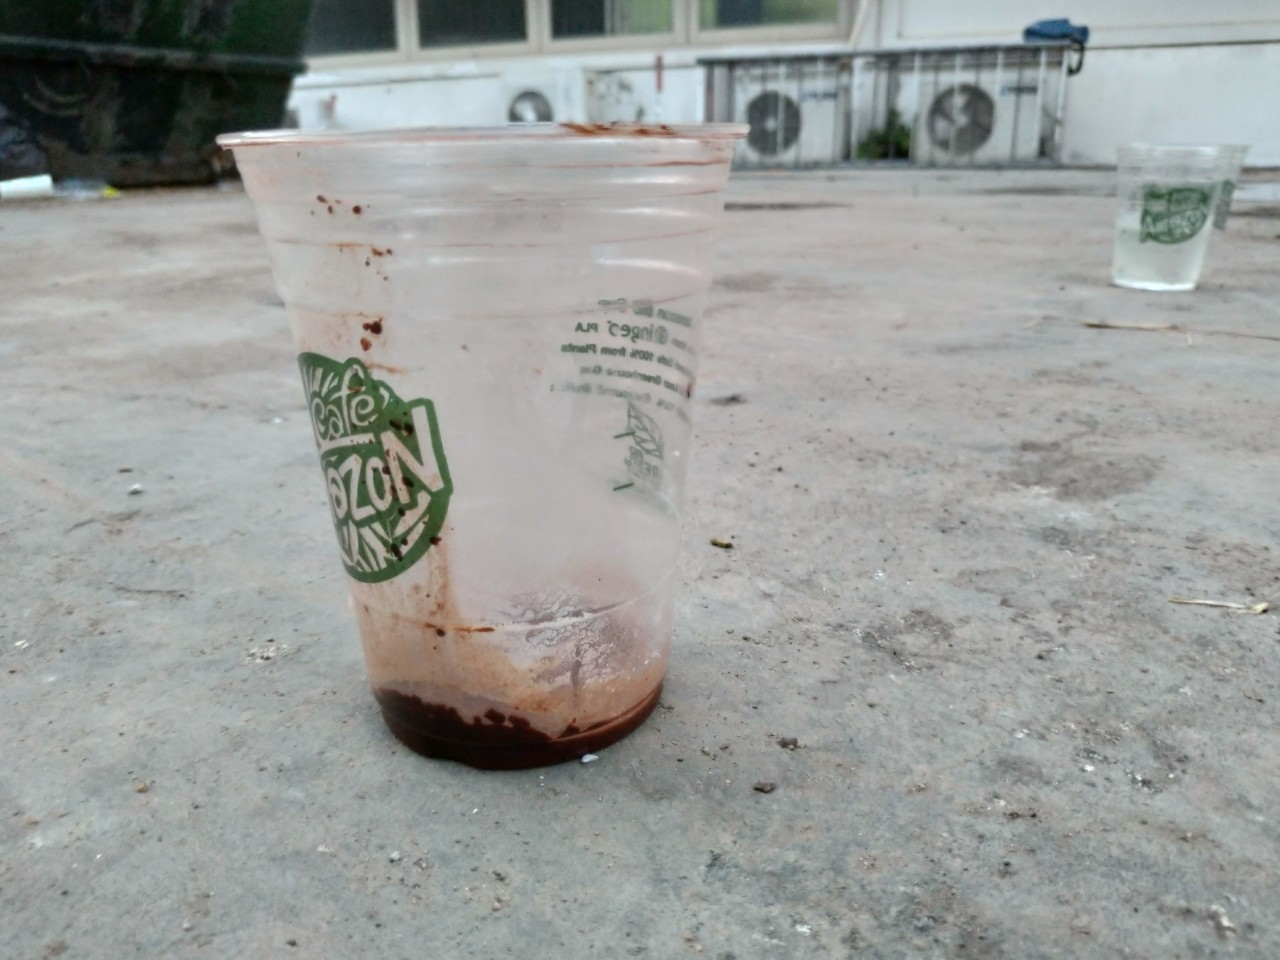PlasticCup: (220, 111, 760, 774), (1098, 139, 1226, 290)
